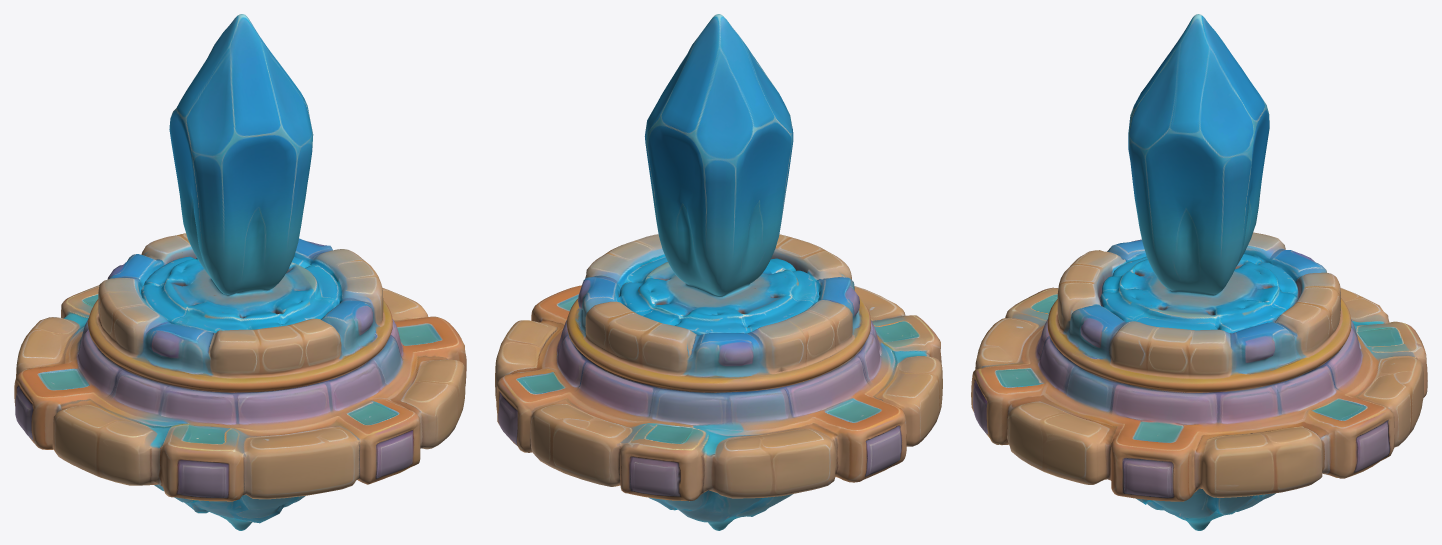
Rendered from 03-garden-crystal-shrine.glb.
3 renders of one model, left to right at view 1: azimuth 30°, elevation 25°; view 2: azimuth 150°, elevation 25°; view 3: azimuth 270°, elevation 25°, orthographic.
Visible parts, largest first — view 1: tripo_node_a104c581; view 2: tripo_node_a104c581; view 3: tripo_node_a104c581.
Boxes of the visible parts, <box> form: tripo_node_a104c581: <box>14,14,466,530</box>; tripo_node_a104c581: <box>495,14,942,530</box>; tripo_node_a104c581: <box>971,14,1427,530</box>.
Size of the model in its own units: 0.1606 by 0.2 by 0.1605.
Materials: 1 (1 with a texture image).
